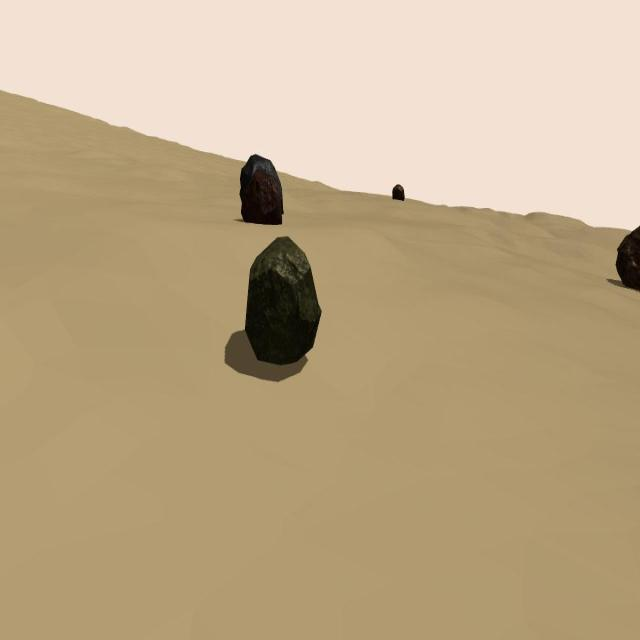rock: (244, 235, 322, 365), (240, 154, 284, 211), (241, 169, 282, 226), (615, 224, 640, 291), (392, 183, 404, 201)
